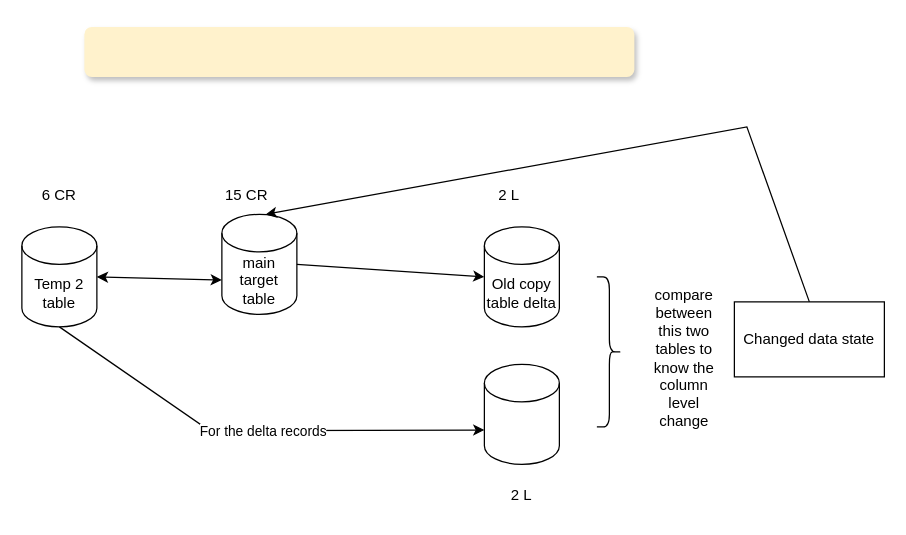
This 906x535 diagram has some shape labels left out. The centre of each missing label's shape, as x and y in pixels:
DESIGN UNDESTANDING PLAYGROUND: (x=360, y=53)
latest copy table delta: (x=521, y=413)
